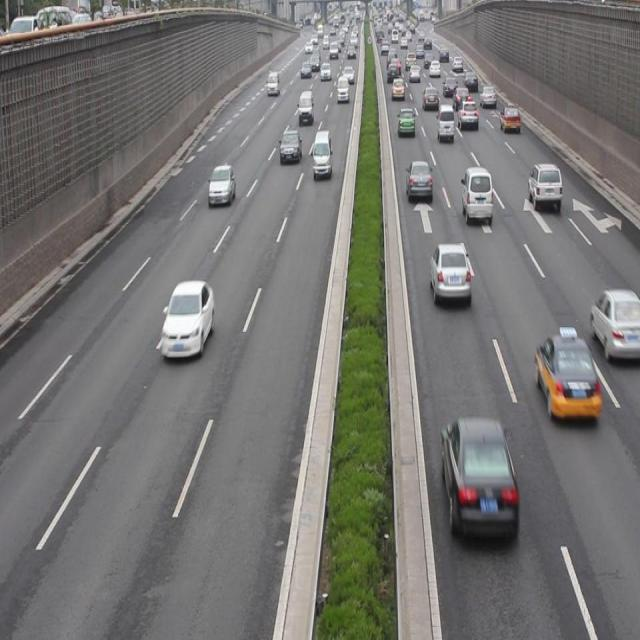car: (441, 417, 517, 548), (532, 321, 600, 420), (161, 278, 212, 364), (591, 285, 640, 366), (428, 243, 470, 303), (527, 164, 561, 214), (405, 158, 432, 202), (208, 162, 234, 206), (280, 130, 300, 163), (458, 98, 477, 130), (500, 105, 519, 133), (397, 107, 414, 137)
truck: (460, 167, 493, 225), (312, 129, 332, 177), (437, 104, 452, 142)
